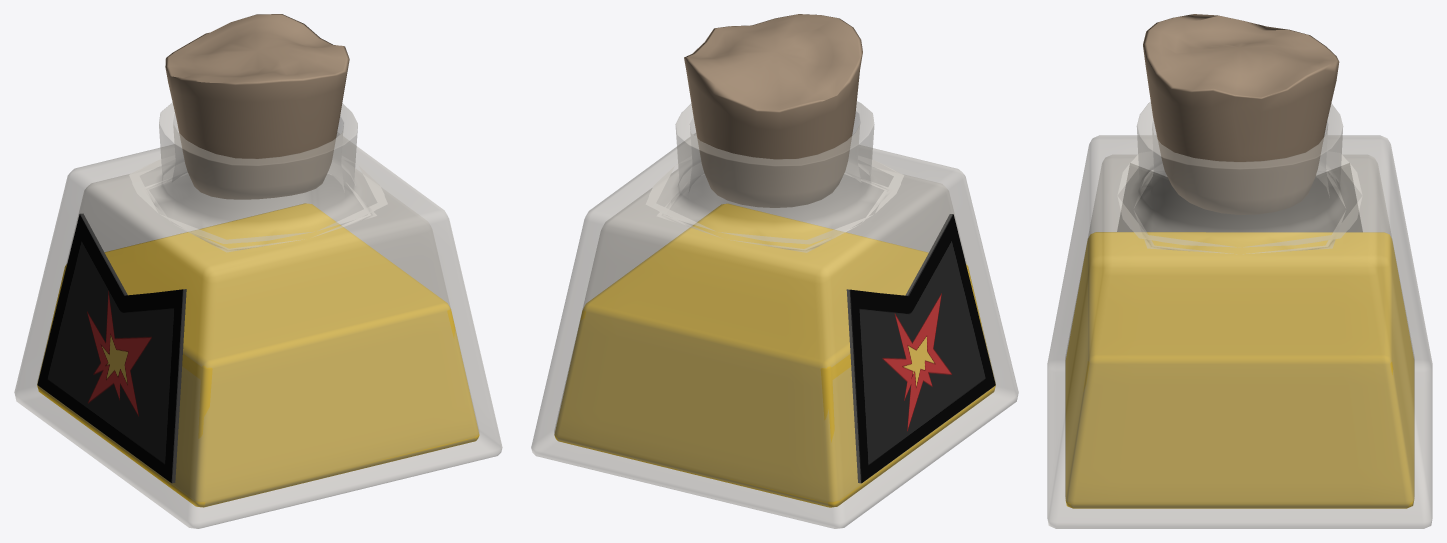
The model's file is explosive potion.fbx.
3 views of the same model, side by side, from view 1: azimuth 30°, elevation 25°; view 2: azimuth 150°, elevation 25°; view 3: azimuth 270°, elevation 25° (orthographic). The views are drawn at different scales.
Visible parts, largest first — view 1: dmgpotion; view 2: dmgpotion; view 3: dmgpotion.
Boxes of the visible parts, x1,y1,x2,y2 form: dmgpotion: [14, 14, 502, 528]; dmgpotion: [531, 14, 1018, 528]; dmgpotion: [1047, 14, 1432, 528].
Size of the model in its own units: 7.62 by 8.95 by 7.62.
4 materials, 1 textured.
